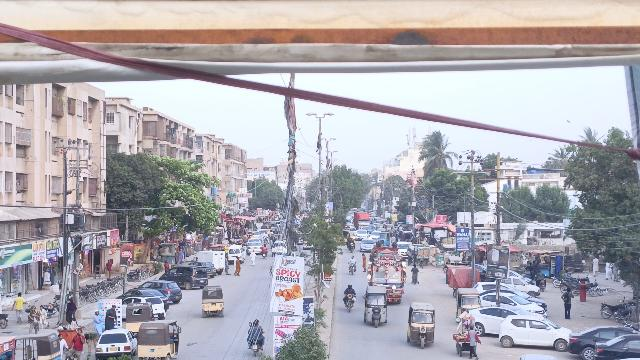Bike: (248, 338, 264, 360), (343, 292, 357, 312), (348, 263, 357, 275)
Bus: (366, 246, 407, 303)
Car: (497, 315, 572, 350), (565, 323, 629, 358), (592, 332, 640, 360), (95, 329, 139, 357), (158, 265, 210, 288)
Cart: (450, 311, 480, 357)
Person: (9, 291, 26, 323), (559, 287, 575, 321), (26, 305, 40, 332), (103, 303, 118, 327), (91, 308, 103, 335), (64, 298, 78, 321), (38, 304, 48, 329), (410, 264, 421, 286), (250, 320, 262, 338), (358, 252, 368, 271), (343, 283, 357, 296), (233, 256, 242, 275), (349, 255, 357, 265)
Rickshaw: (136, 319, 182, 360), (404, 301, 437, 350), (361, 286, 390, 328), (199, 285, 226, 319), (453, 288, 482, 317), (125, 303, 153, 332)
Truck: (195, 248, 226, 272)
